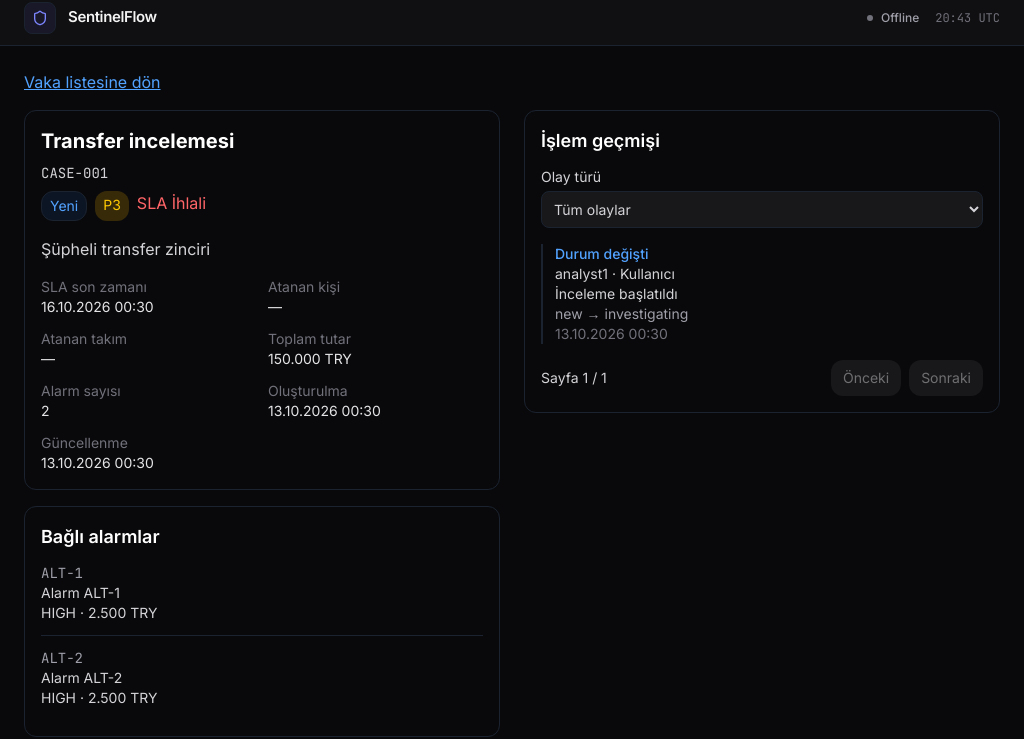
Test: Vaka mutasyonları › durum PATCH sonrası özeti ve olayları yeniler
The image size is (1024, 739).
Expected: the heading "Transfer incelemesi" is shown, [41,129,234,153]
Expected: the text "İnceleme başlatıldı" is shown, [555,285,678,302]
Select "Not eklendi" in the dropdown labelled "Olay türü": (762,210) [541,191,983,228]
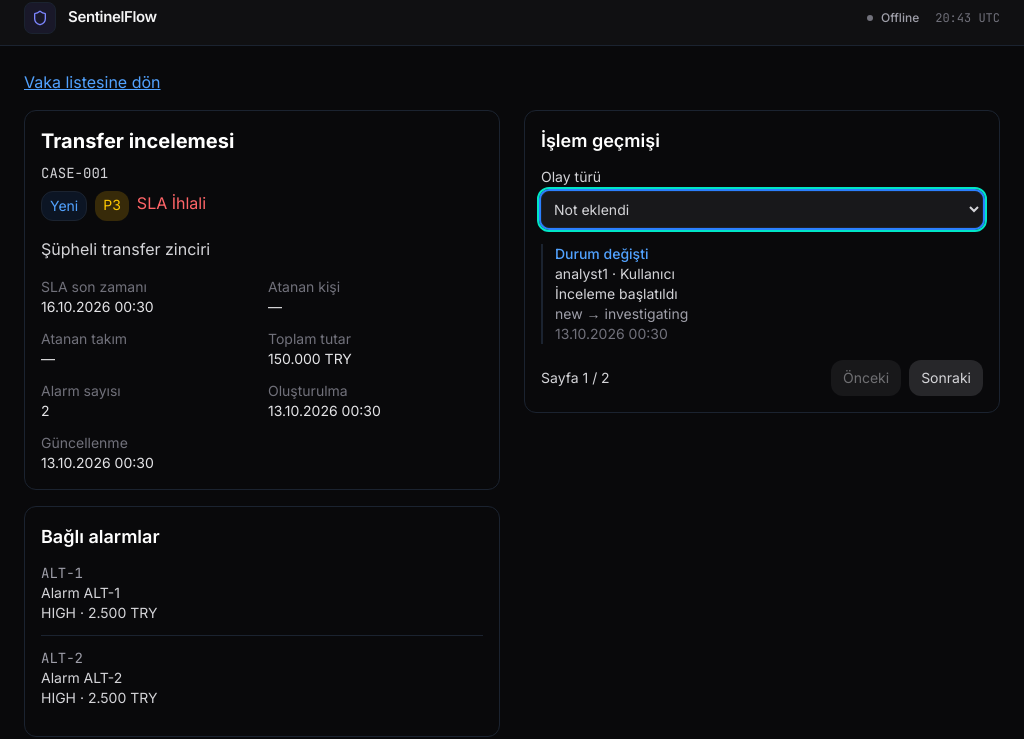
Result: the button "Sonraki" is enabled
Click the button "Sonraki": (946,378) [909,360,983,396]
(page scrolled)
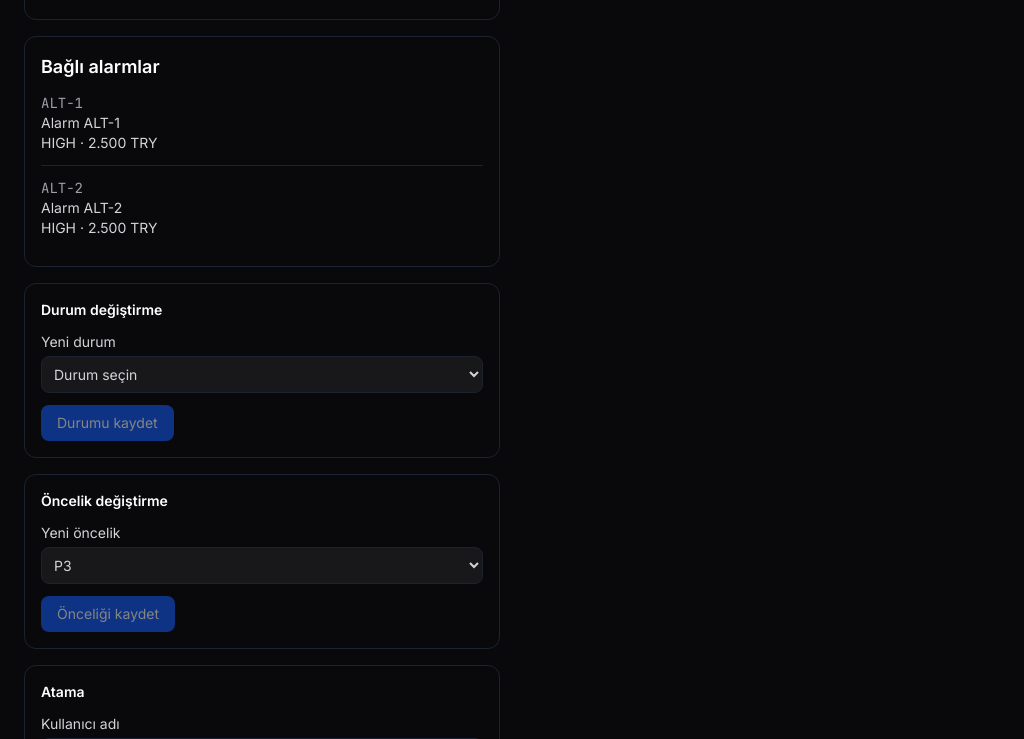
Select "İnceleniyor" in the dropdown labelled "Yeni durum": (262,374) [41,356,483,393]
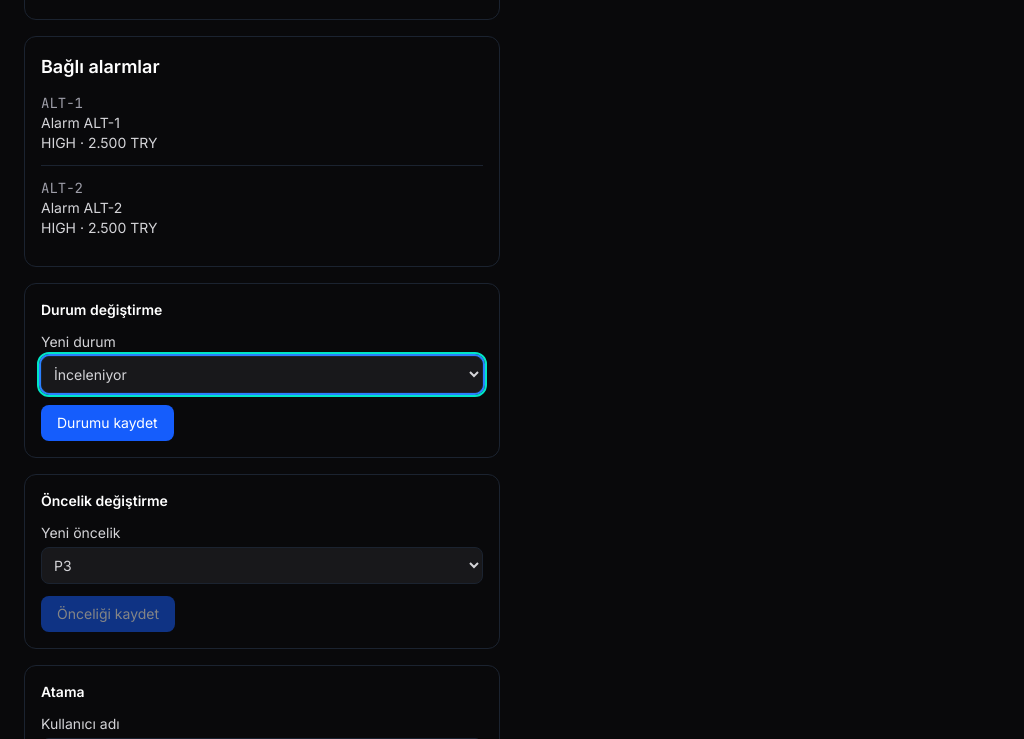
Click the button "Durumu kaydet": (107,423) [41,405,174,441]
(page scrolled)
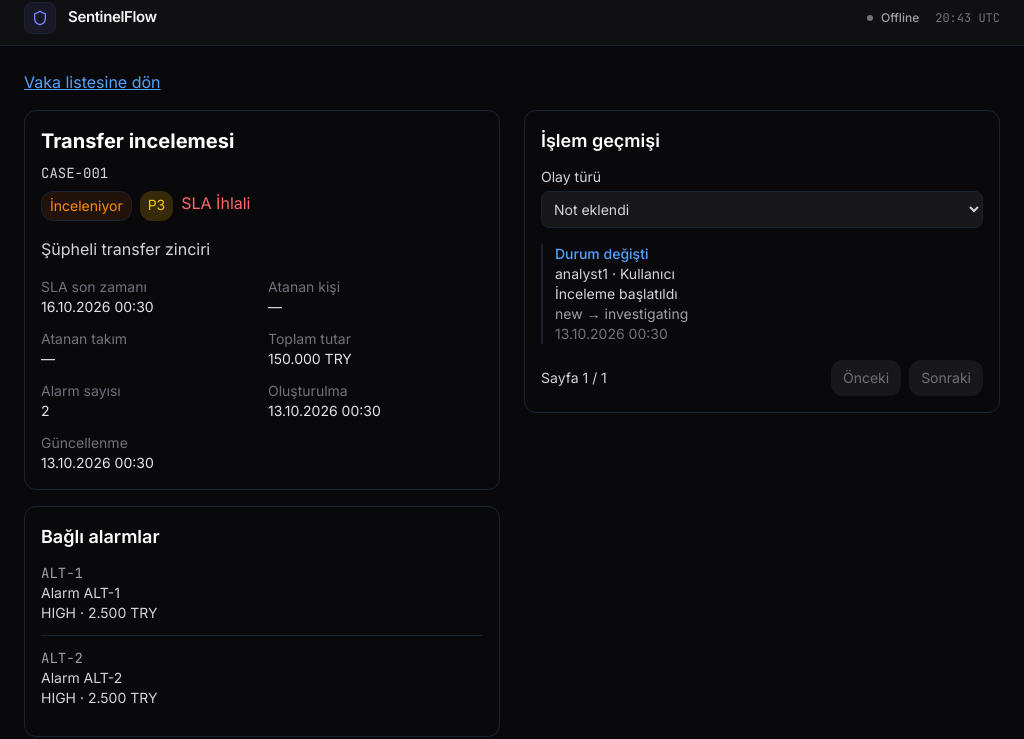
Result: the element "Transfer incelemesi" shows "İnceleniyor" at [50,197,123,214]
